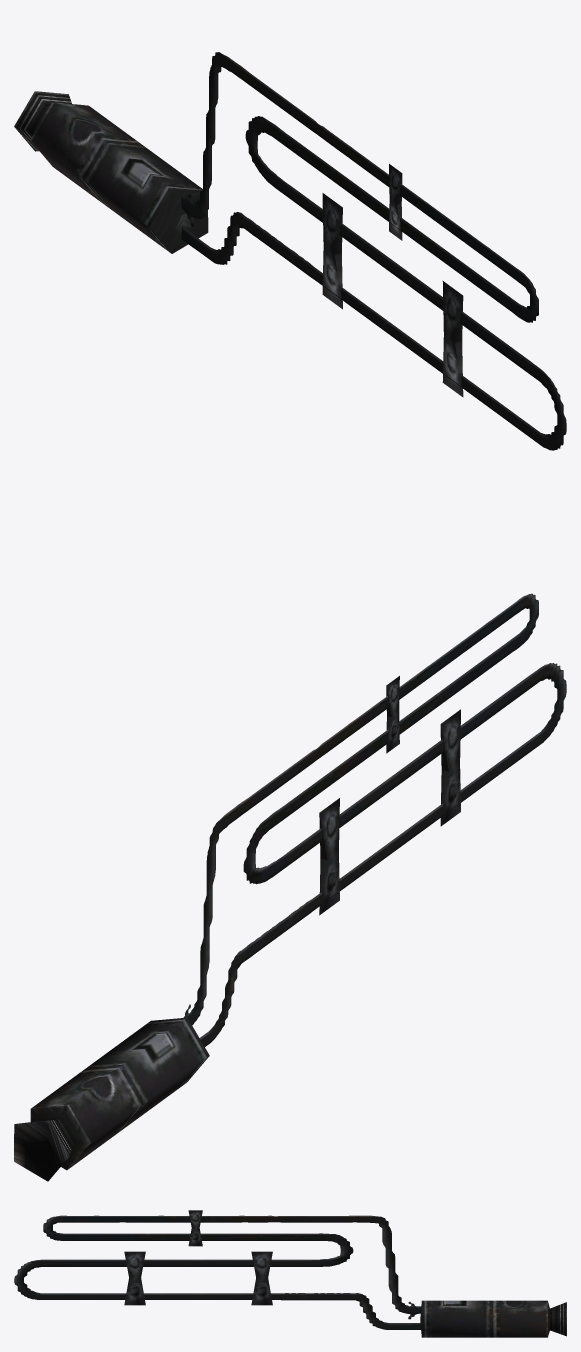
The model's file is eqp_tool_sensor_frequency_jammer_l1.fbx.
The picture shows the model from 3 angles, top to bottom: view 1: azimuth 30°, elevation 25°; view 2: azimuth 150°, elevation 25°; view 3: azimuth 270°, elevation 25°; orthographic projection. The views are drawn at different scales.
Parts seen in each view (by area): view 1: mesh_node; view 2: mesh_node; view 3: mesh_node.
Boxes of the visible parts, left/top/right/bottom form: mesh_node: left=14, top=52, right=566, bottom=450; mesh_node: left=14, top=593, right=566, bottom=1181; mesh_node: left=14, top=1210, right=566, bottom=1337.
Bounding box in the file's own units: 0.0364 × 0.142 × 0.5611.
